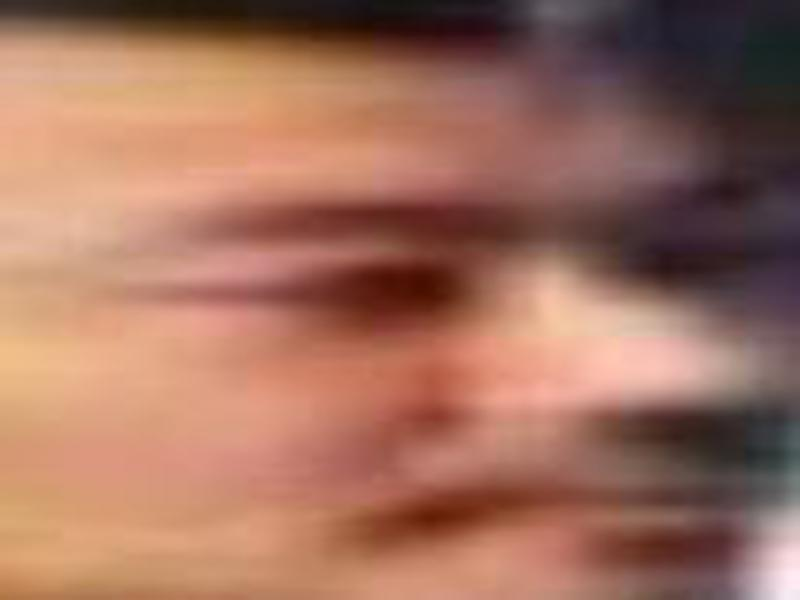without_mask: (14, 25, 781, 600)
